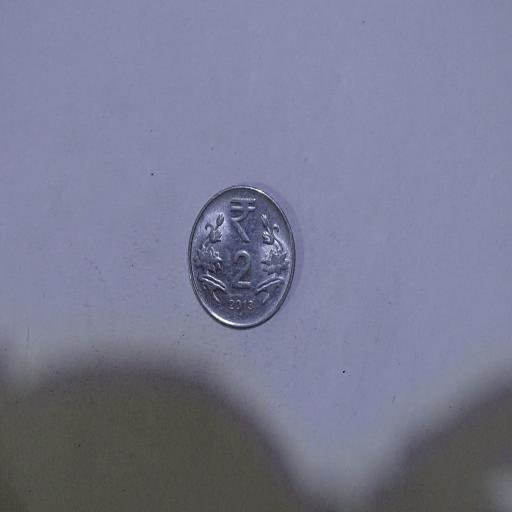rupee2: (186, 184, 297, 330)
